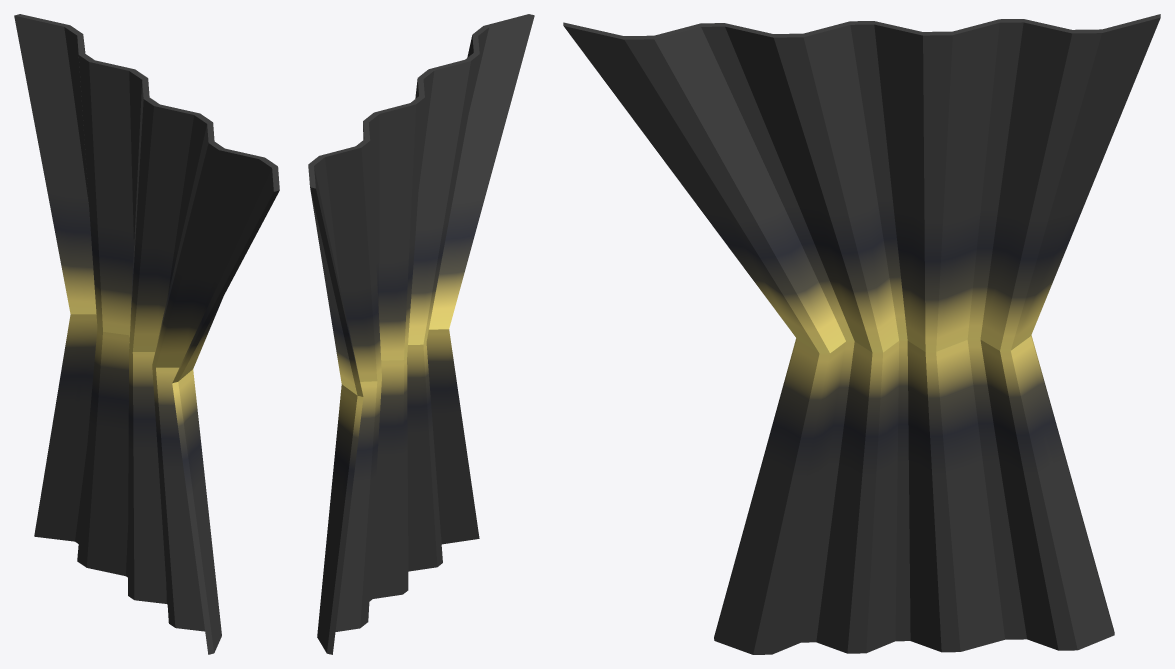
The model's file is Bedroom_2_Curtain_1.fbx.
3 views of the same model, side by side, from view 1: azimuth 30°, elevation 25°; view 2: azimuth 150°, elevation 25°; view 3: azimuth 270°, elevation 25° (orthographic). The views are drawn at different scales.
Parts seen in each view (by area): view 1: Bedroom_2_Curtain_1; view 2: Bedroom_2_Curtain_1; view 3: Bedroom_2_Curtain_1.
Part boxes in pixels (x1,y1,x2,y2): Bedroom_2_Curtain_1: (14, 14, 279, 654); Bedroom_2_Curtain_1: (308, 14, 534, 654); Bedroom_2_Curtain_1: (563, 14, 1160, 654).
Size of the model in its own units: 14.43 by 161 by 141.
